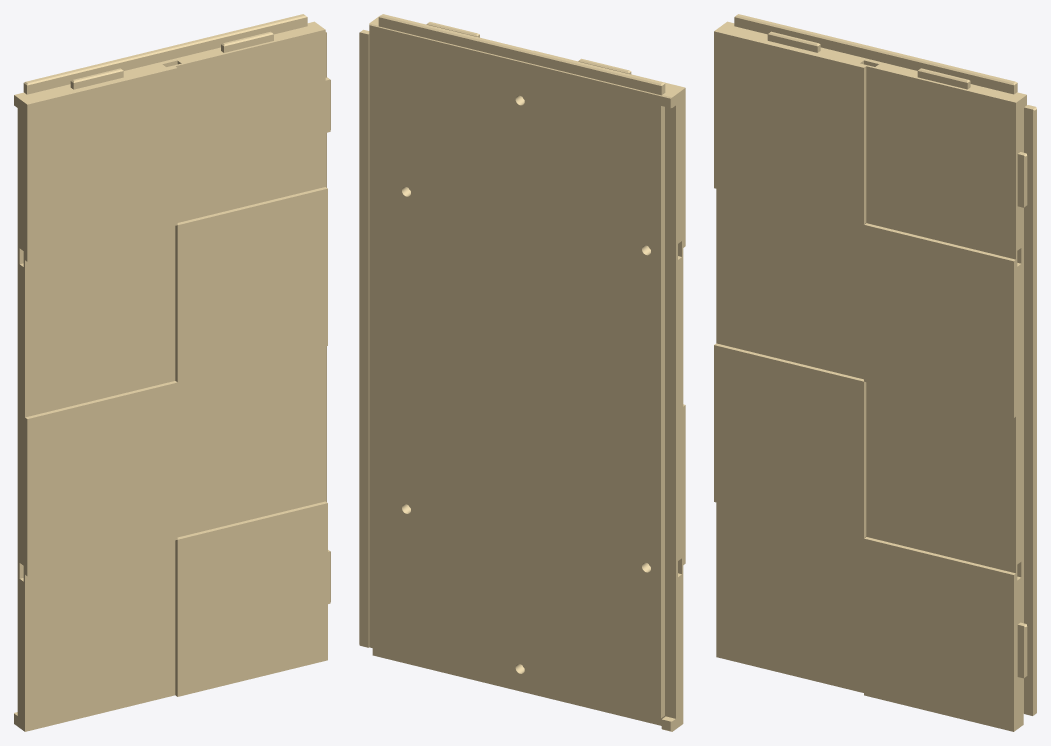
File: .panel_south_ab_light_body.step.glb
3 renders of one model, left to right at view 1: azimuth 30°, elevation 25°; view 2: azimuth 150°, elevation 25°; view 3: azimuth 330°, elevation 25°, orthographic.
Visible parts, largest first — view 1: o1; view 2: o1; view 3: o1.
Part boxes in pixels (x1=…): o1: x1=14, y1=14, x2=330, y2=731; o1: x1=359, y1=14, x2=685, y2=731; o1: x1=714, y1=14, x2=1036, y2=731.
Bounding box in the file's own units: 0.124 × 0.244 × 0.0096.
